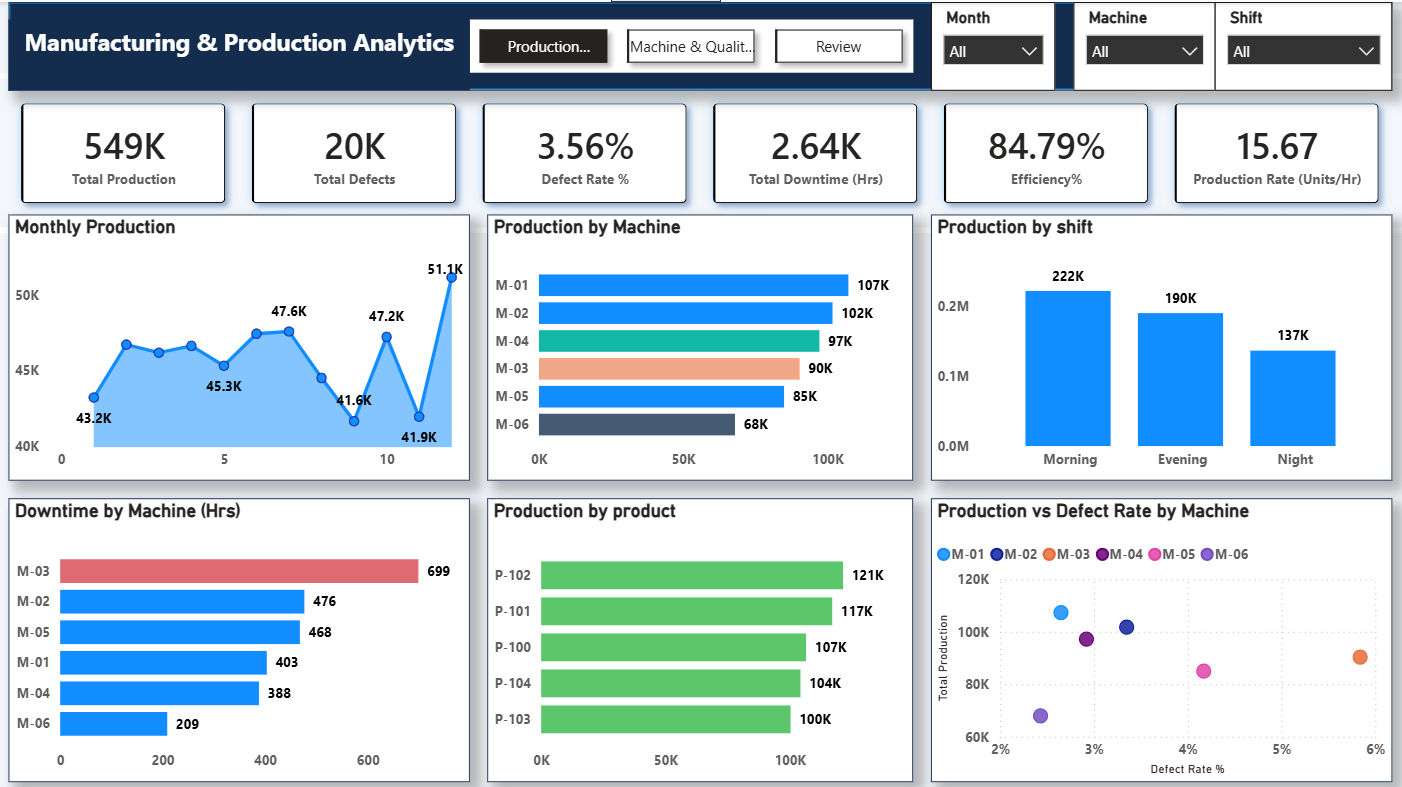

What the dashboard file says about the page in this screenshot:
{"tool":"powerbi","page":{"name":"Production Overview","canvas":[1280,720],"ordinal":0},"visuals":[{"type":"cardVisual","fields":{"Data":["DAX_Measures.Total Production","DAX_Measures.Total Defects","DAX_Measures.Defect Rate %","DAX_Measures.Total Downtime (Hrs)","DAX_Measures.Target Achievement %","DAX_Measures.Production Rate (Units/Hr)"]},"box":[0,64,1280,144],"z":0},{"type":"clusteredBarChart","title":"Production by Machine","fields":{"Category":["Production_Dataset.machine_id"],"Y":["DAX_Measures.Total Production"]},"box":[448,192,384,240],"z":1000},{"type":"clusteredColumnChart","title":"Production by shift","fields":{"Category":["Production_Dataset.shift"],"Y":["DAX_Measures.Total Production"]},"box":[848,192,416,240],"z":2000},{"type":"clusteredBarChart","title":"Downtime by Machine (Hrs) ","fields":{"Y":["DAX_Measures.Total Downtime (Hrs)"],"Category":["Production_Dataset.machine_id"]},"box":[16,448,416,256],"z":3000},{"type":"clusteredBarChart","title":"Production by product","fields":{"Category":["Production_Dataset.product_id"],"Y":["DAX_Measures.Total Production"]},"box":[448,448,384,256],"z":4000},{"type":"scatterChart","title":"Production vs Defect Rate by Machine","fields":{"X":["DAX_Measures.Defect Rate %"],"Series":["Production_Dataset.machine_id"],"Y":["DAX_Measures.Total Production"]},"box":[848,448,416,256],"z":5000},{"type":"areaChart","title":"Monthly Production","fields":{"Y":["DAX_Measures.Total Production"],"Category":["Date_Table.Month Number"]},"box":[16,192,416,240],"z":6000},{"type":"shape","box":[16,0,1248,80],"z":9000},{"type":"slicer","fields":{"Values":["Production_Dataset.machine_id"]},"box":[976,0,128,80],"z":10000},{"type":"slicer","fields":{"Values":["Production_Dataset.shift"]},"box":[1104,0,160,80],"z":10500},{"type":"pageNavigator","box":[432,16,400,48],"z":11000},{"type":"textbox","box":[16,16,416,64],"z":11501},{"type":"slicer","fields":{"Values":["Date_Table.Month Number"]},"box":[848,0,112,80],"z":12002}]}

Visuals, with their boxes in screenshot pixels (x1, y1, x2, y2), scaled from the page's 1280x720 canvas onto the 1402x787 screenshot:
cardVisual - DAX_Measures.Total Production x DAX_Measures.Total Defects: (left=0, top=70, right=1401, bottom=227)
"Production by Machine" clusteredBarChart: (left=491, top=210, right=911, bottom=472)
"Production by shift" clusteredColumnChart: (left=929, top=210, right=1384, bottom=472)
"Downtime by Machine (Hrs) " clusteredBarChart: (left=18, top=490, right=473, bottom=770)
"Production by product" clusteredBarChart: (left=491, top=490, right=911, bottom=770)
"Production vs Defect Rate by Machine" scatterChart: (left=929, top=490, right=1384, bottom=770)
"Monthly Production" areaChart: (left=18, top=210, right=473, bottom=472)
shape: (left=18, top=0, right=1384, bottom=87)
slicer - Production_Dataset.machine_id: (left=1069, top=0, right=1209, bottom=87)
slicer - Production_Dataset.shift: (left=1209, top=0, right=1384, bottom=87)
pageNavigator: (left=473, top=17, right=911, bottom=70)
textbox: (left=18, top=17, right=473, bottom=87)
slicer - Date_Table.Month Number: (left=929, top=0, right=1052, bottom=87)
